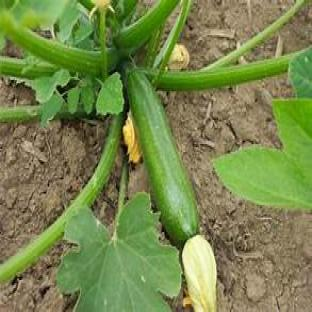Zucchini: (127, 69, 199, 244)
